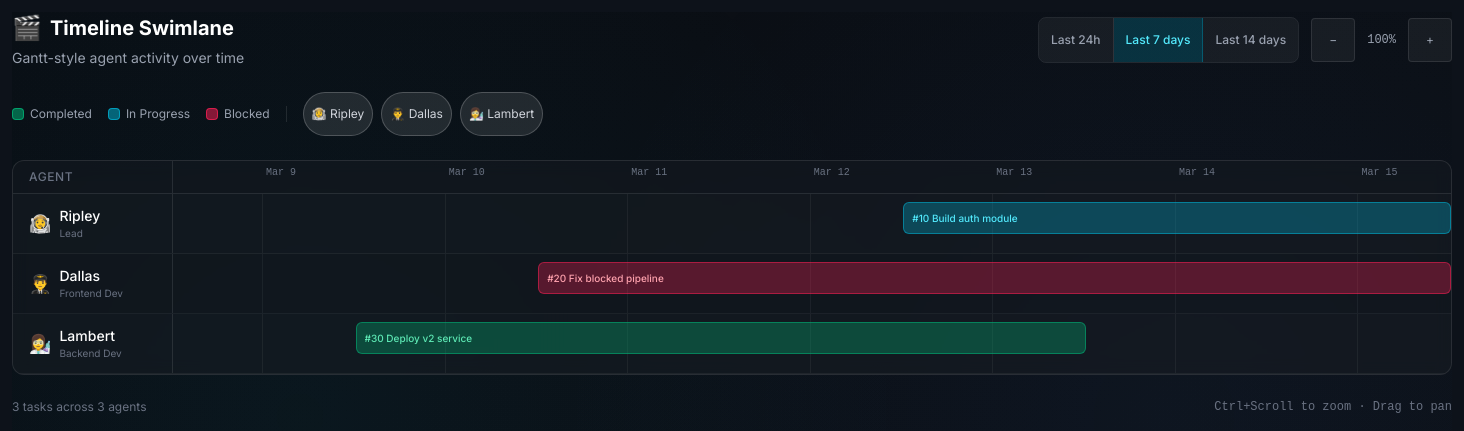
Test: TimelineSwimlane › zooms out on button click
Step 1. Click the button titled "Zoom out" → click(1333, 40), box [1311,18,1355,62]
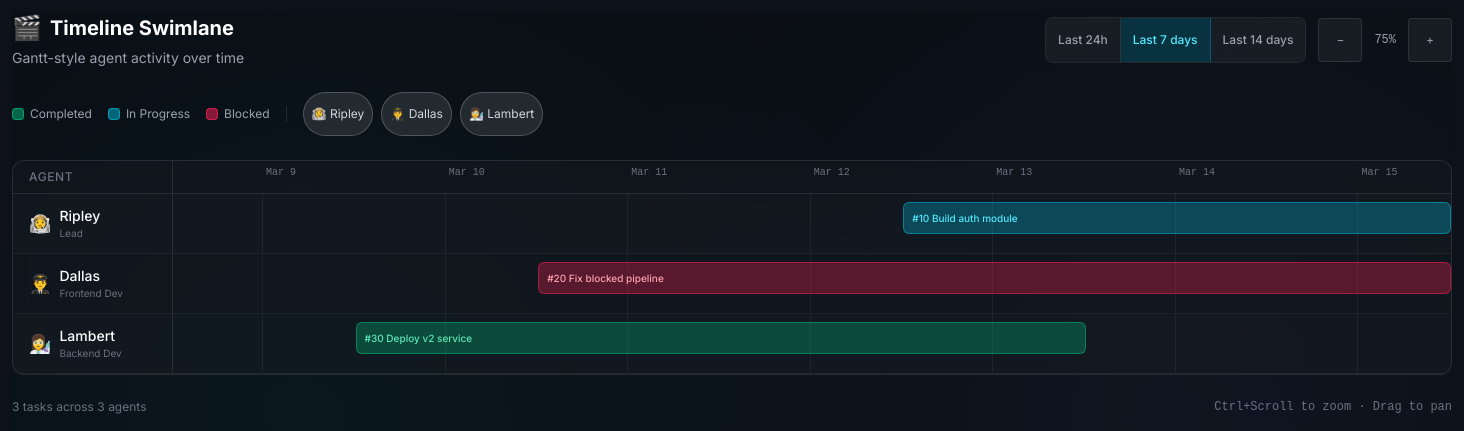
expect the text "75%" is shown: met, box [1374,33,1396,47]
